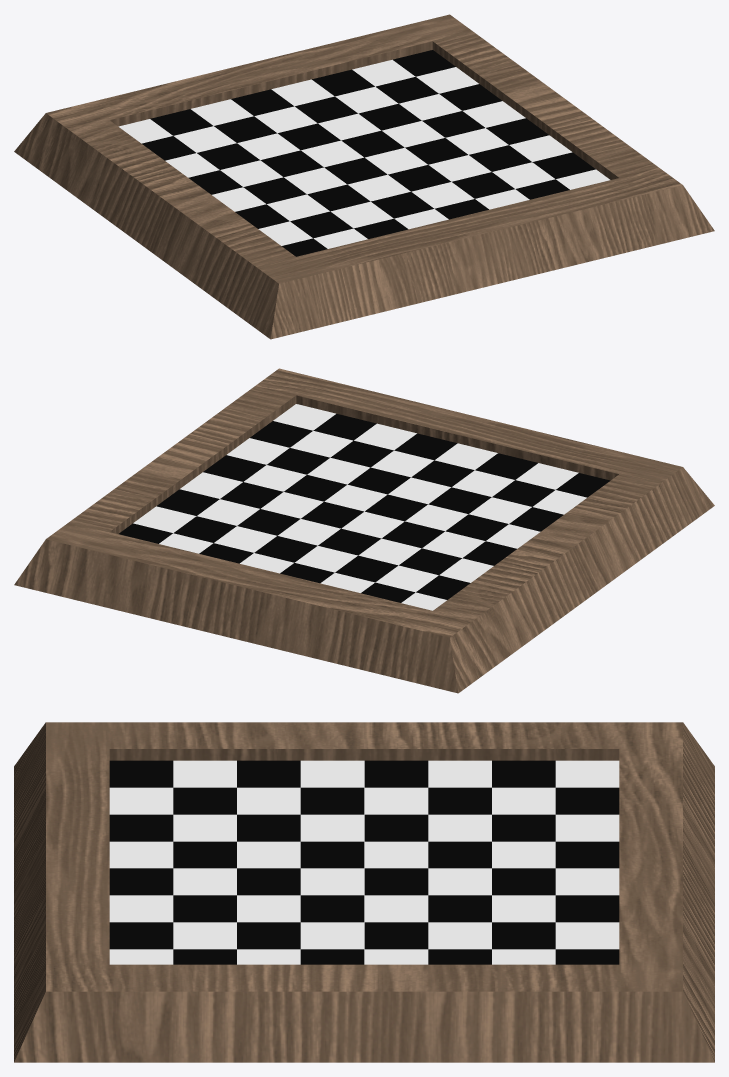
Rendered from Board.obj.
3 renders of one model, top to bottom at view 1: azimuth 30°, elevation 25°; view 2: azimuth 150°, elevation 25°; view 3: azimuth 270°, elevation 25°, orthographic. The views are drawn at different scales.
Visible parts, largest first — view 1: Chess_Board; view 2: Chess_Board; view 3: Chess_Board.
Part boxes in pixels (x1,y1,x2,y2): Chess_Board: [14, 14, 714, 339]; Chess_Board: [14, 368, 714, 693]; Chess_Board: [14, 722, 714, 1062].
Bounding box in the file's own units: 0.55 × 0.05 × 0.55.
